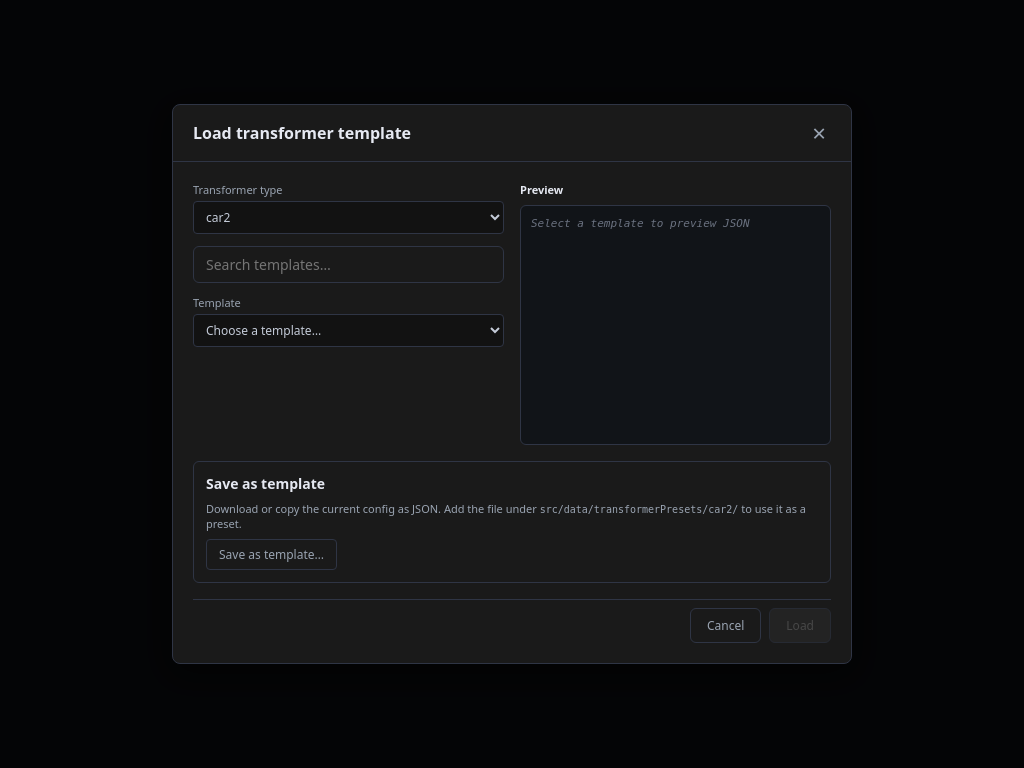
TransformerTemplateDialog › shows JSON preview when a template is selected
Select "default" in the dropdown with test id "transformer-template-select": coordinates (348, 330) [193,314,504,347]
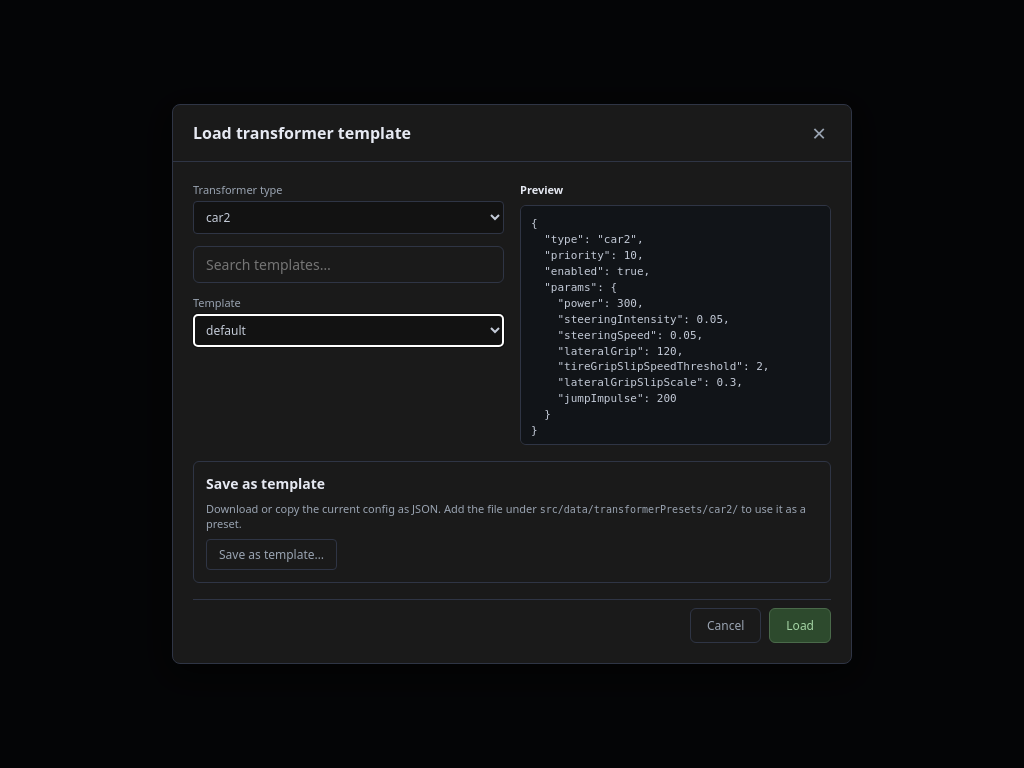
Expected: the text "\"type\": \"car2\"" shows "\"params\"", [531,217,769,437]
